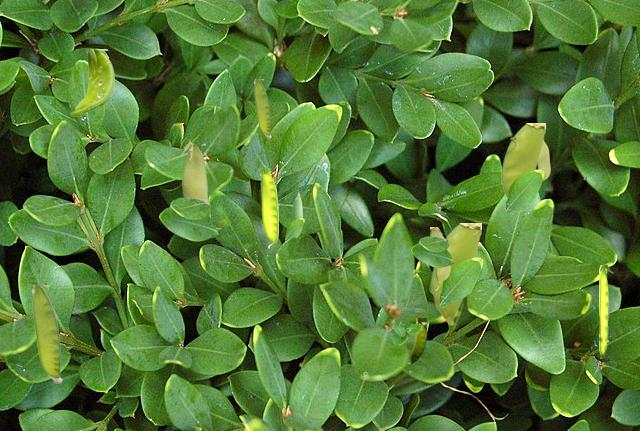pea: (431, 223, 480, 324), (501, 123, 544, 211), (181, 140, 220, 228), (70, 49, 113, 115), (32, 285, 61, 382), (260, 168, 277, 247), (599, 265, 612, 357), (430, 227, 449, 289), (254, 79, 270, 137), (407, 318, 425, 363), (537, 140, 549, 184), (293, 191, 301, 236)
